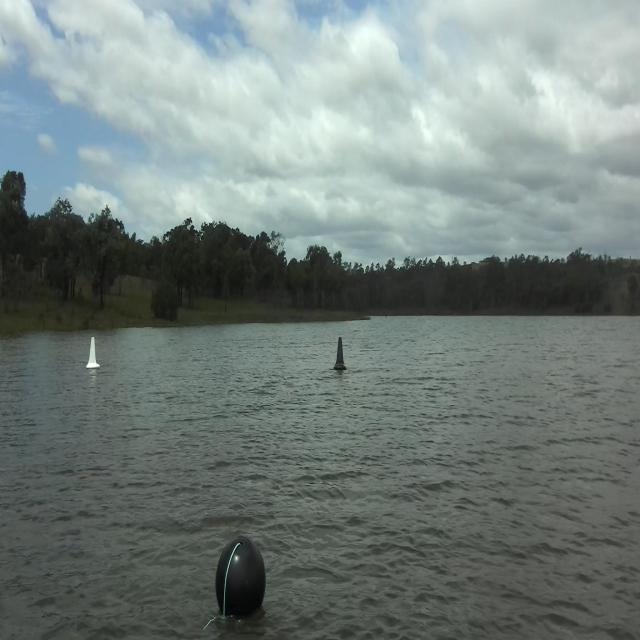Black_Buoy: (197, 522, 289, 621), (329, 339, 355, 373)
White_Buoy: (83, 335, 101, 380)
